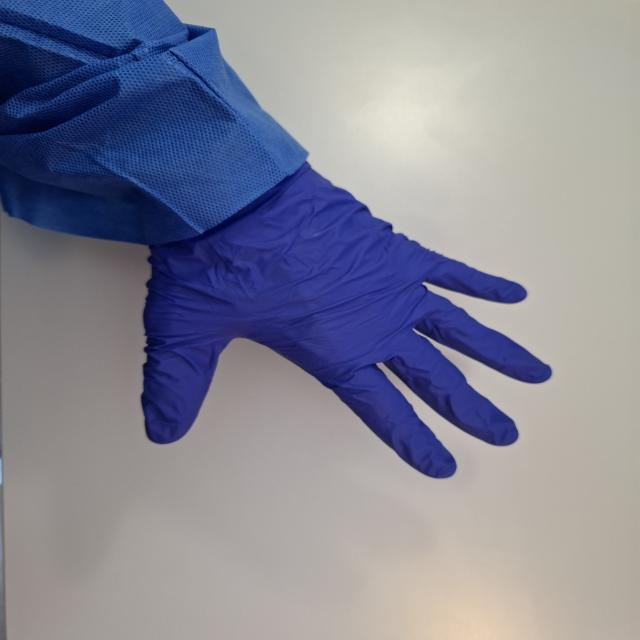glove_on: (134, 153, 554, 481)
